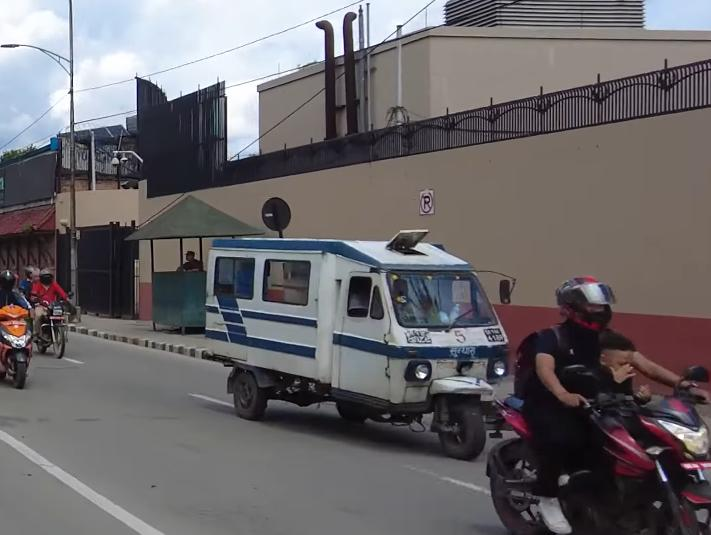bike: (487, 265, 711, 535), (29, 286, 73, 359)
scooter: (0, 297, 32, 394)
tempo: (195, 222, 515, 464)
